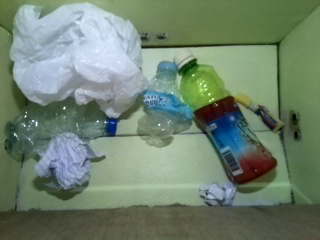bottle: (175, 50, 277, 186)
damaged-bottle: (6, 98, 118, 156), (139, 60, 193, 147)
paper: (35, 133, 105, 192), (197, 182, 239, 208)
plastic-bag: (7, 2, 149, 118)
